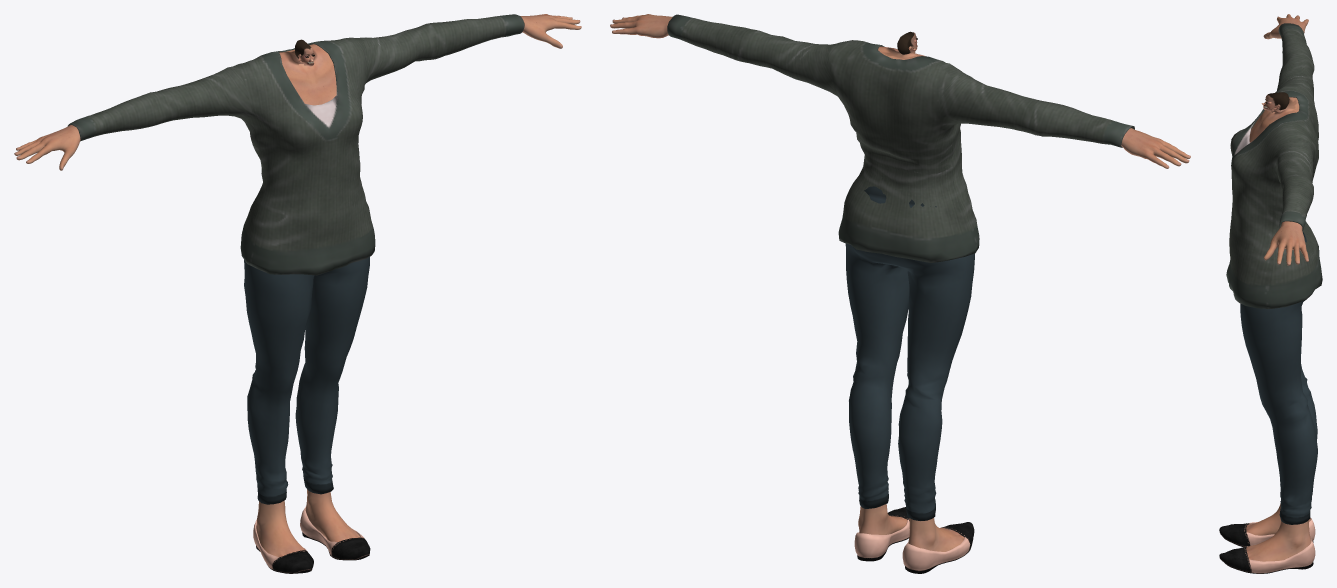
The model's file is Normal Girl OBJ.obj.
3 views of the same model, side by side, from view 1: azimuth 30°, elevation 25°; view 2: azimuth 150°, elevation 25°; view 3: azimuth 270°, elevation 25° (orthographic). The views are drawn at different scales.
Visible parts, largest first — view 1: Tops, Bottoms, Body, Shoes; view 2: Tops, Bottoms, Body, Shoes; view 3: Tops, Bottoms, Body, Shoes.
Part boxes in pixels (box(x1,y1,x2,y2)): Tops: box(67, 14, 524, 275); Bottoms: box(244, 257, 369, 504); Body: box(14, 14, 581, 557); Shoes: box(253, 506, 370, 573); Tops: box(667, 14, 1134, 262); Bottoms: box(845, 186, 974, 520); Body: box(610, 14, 1190, 551); Shoes: box(854, 507, 974, 573); Tops: box(1226, 23, 1322, 308); Bottoms: box(1240, 222, 1317, 524); Body: box(1246, 14, 1311, 561); Shoes: box(1219, 518, 1315, 573).
Size of the model in its own units: 179 by 154 by 31.32.
1 material, 1 textured.
